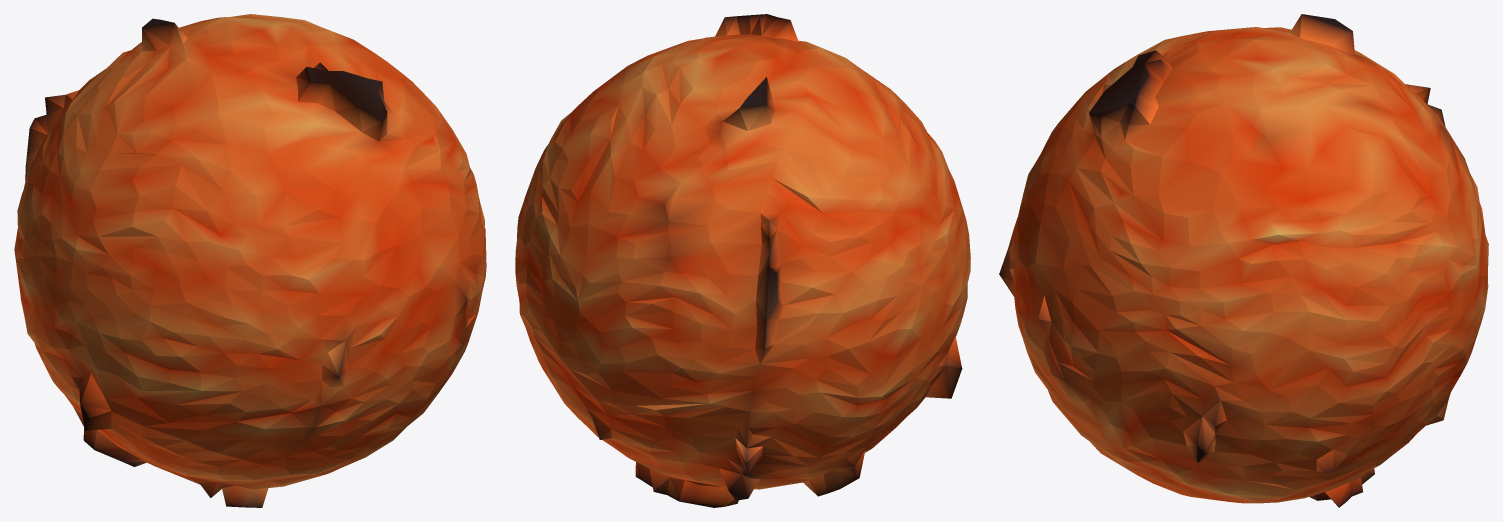
The model's file is barren_27.fbx.
The picture shows the model from 3 angles, left to right: view 1: azimuth 30°, elevation 25°; view 2: azimuth 150°, elevation 25°; view 3: azimuth 270°, elevation 25°; orthographic projection. The views are drawn at different scales.
Parts seen in each view (by area): view 1: filecache1; view 2: filecache1; view 3: filecache1.
Boxes of the visible parts, x1,y1,x2,y2 form: filecache1: [14, 14, 486, 507]; filecache1: [515, 14, 970, 507]; filecache1: [999, 14, 1488, 507].
Bounding box in the file's own units: 2.03 × 2.12 × 2.07.
